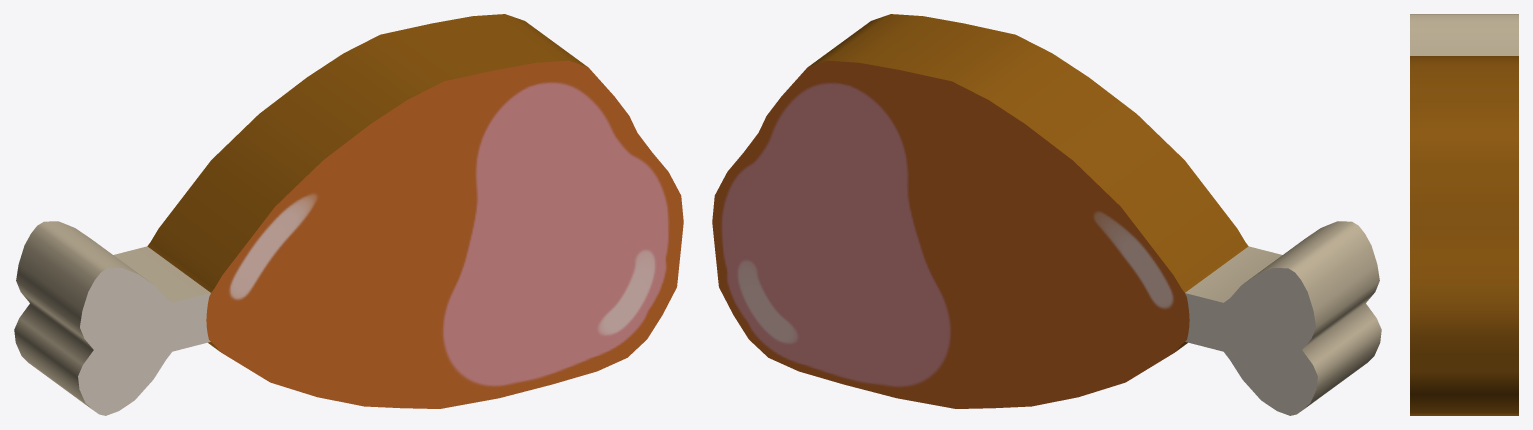
File: mesh_Ham_v1.0.fbx
3 views of the same model, side by side, from view 1: azimuth 30°, elevation 25°; view 2: azimuth 150°, elevation 25°; view 3: azimuth 270°, elevation 25° (orthographic). The views are drawn at different scales.
Visible parts, largest first — view 1: pCube13; view 2: pCube13; view 3: pCube13.
Part boxes in pixels (x1,y1,x2,y2): pCube13: (14,14,683,415); pCube13: (712,14,1381,415); pCube13: (1410,14,1518,415).
Size of the model in its own units: 159 by 83.11 by 29.08.
